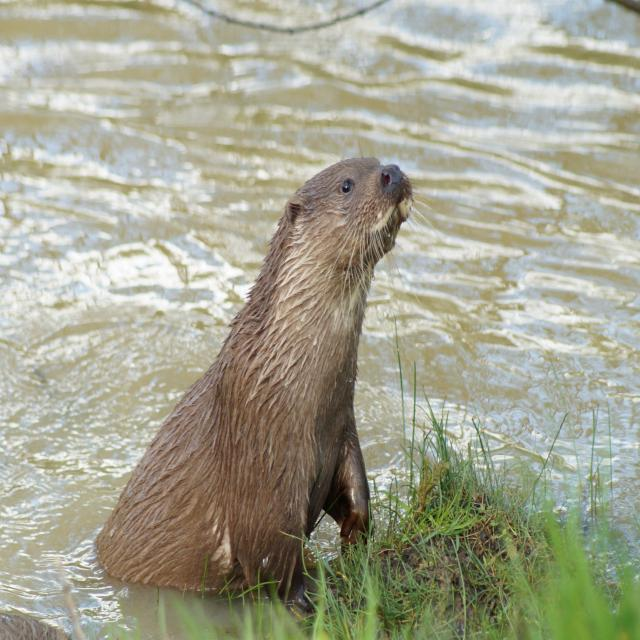otter: (100, 159, 413, 583)
